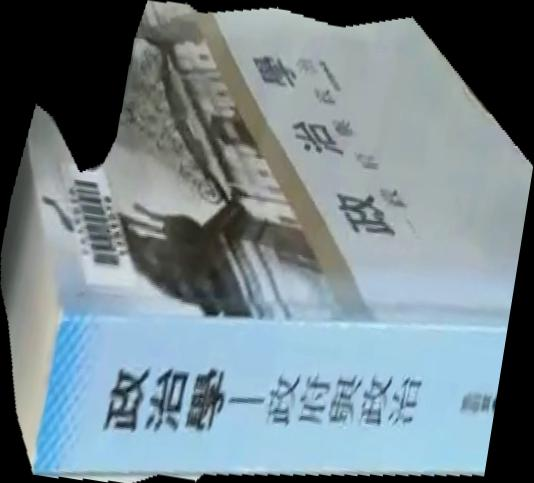flat: (1, 1, 534, 483)
